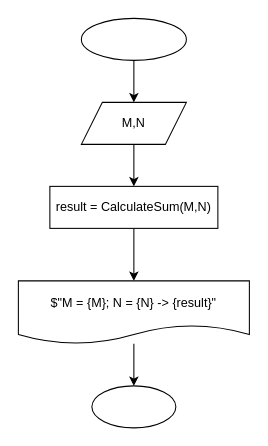
The diagram is 268 pixels wide and 446 high, and some of its shapes have lost their labels. The centre of each missing label's shape, as x and y in pixels:
"end" belongs at pixel 133 406.
"start" belongs at pixel 133 38.
